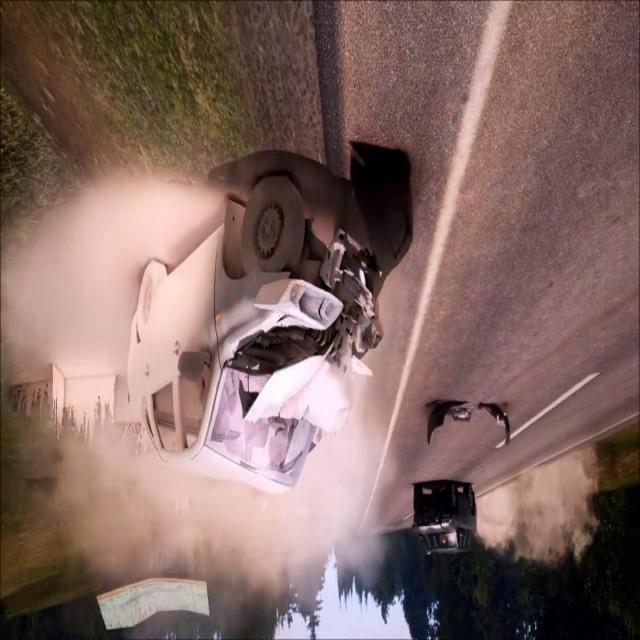severe: (122, 142, 390, 502)
